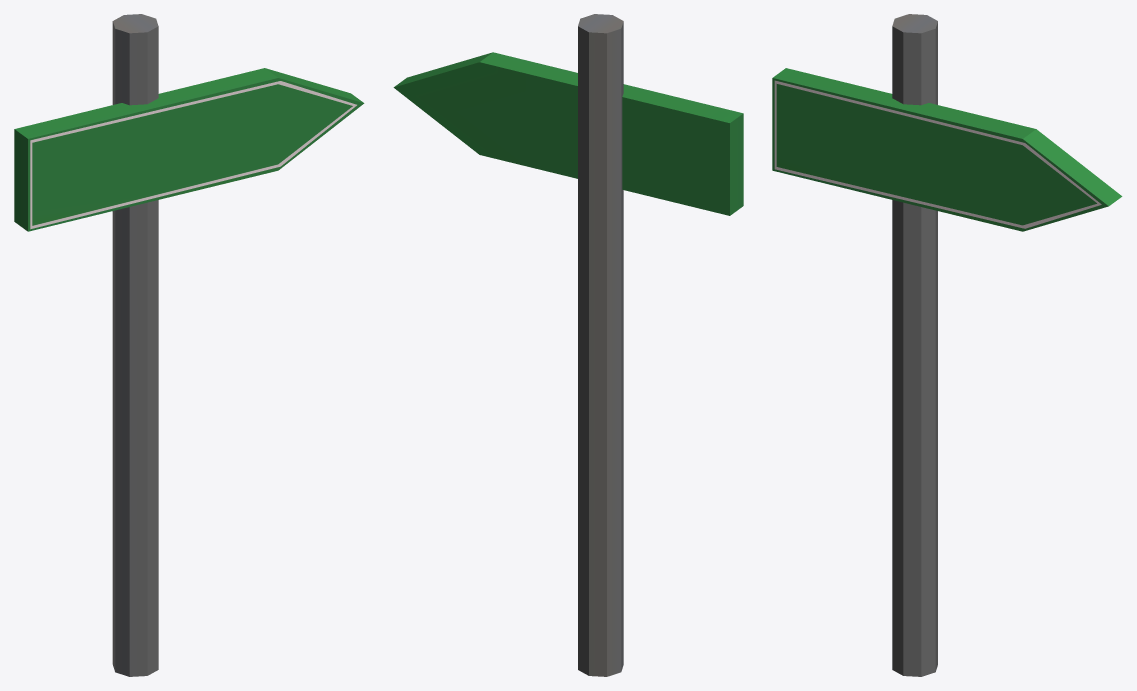
Rendered from SignStreet.fbx.
The picture shows the model from 3 angles, left to right: view 1: azimuth 30°, elevation 25°; view 2: azimuth 150°, elevation 25°; view 3: azimuth 330°, elevation 25°; orthographic projection.
Visible parts, largest first — view 1: SignStreet; view 2: SignStreet; view 3: SignStreet.
Boxes of the visible parts, left/top/right/bottom form: SignStreet: left=14, top=14, right=364, bottom=676; SignStreet: left=393, top=14, right=743, bottom=676; SignStreet: left=772, top=14, right=1122, bottom=676.
Size of the model in its own units: 164 by 300 by 24.81.
